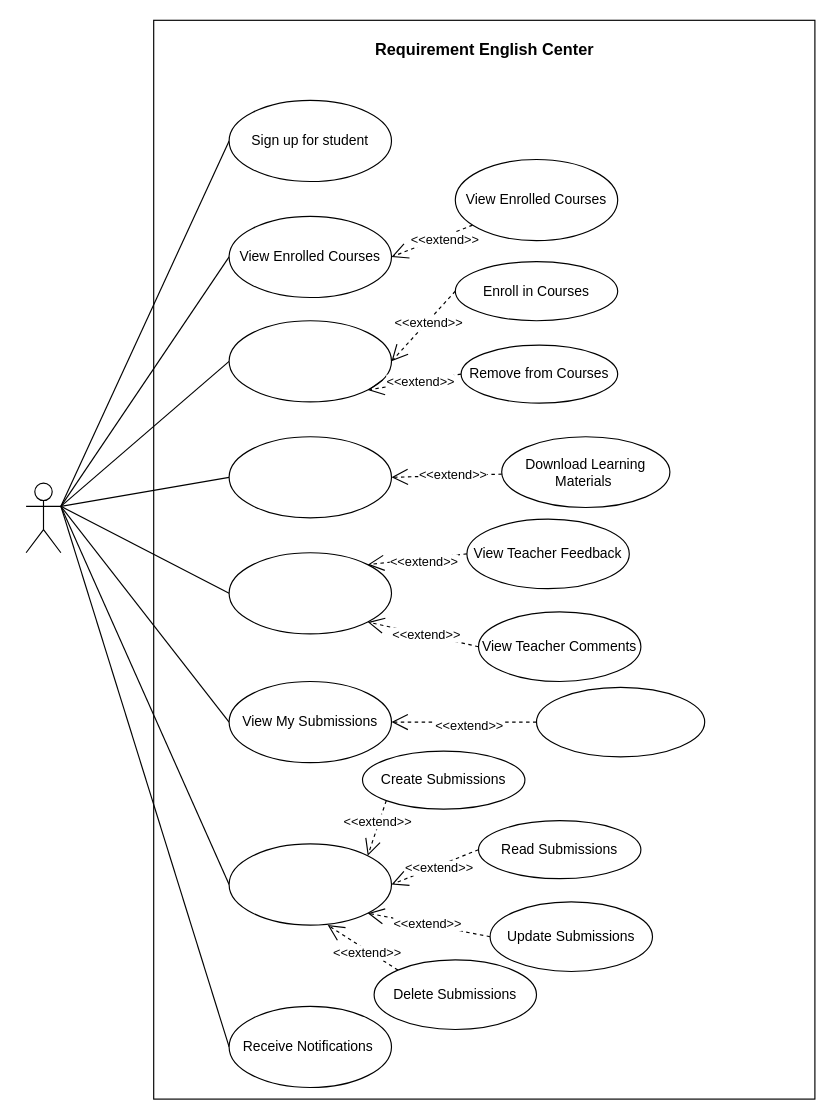
Some shapes in this 835 by 1119 pixel diagram are drawn without their labels. The centre of each missing label's shape, as x and y in pixels:
Access Learning Materials: point (310, 477)
See My Submissions: point (620, 721)
Self-Enroll in Courses: point (310, 361)
Student: point (43, 517)
Submit Assignments: point (310, 884)
View Feedback: point (310, 593)
